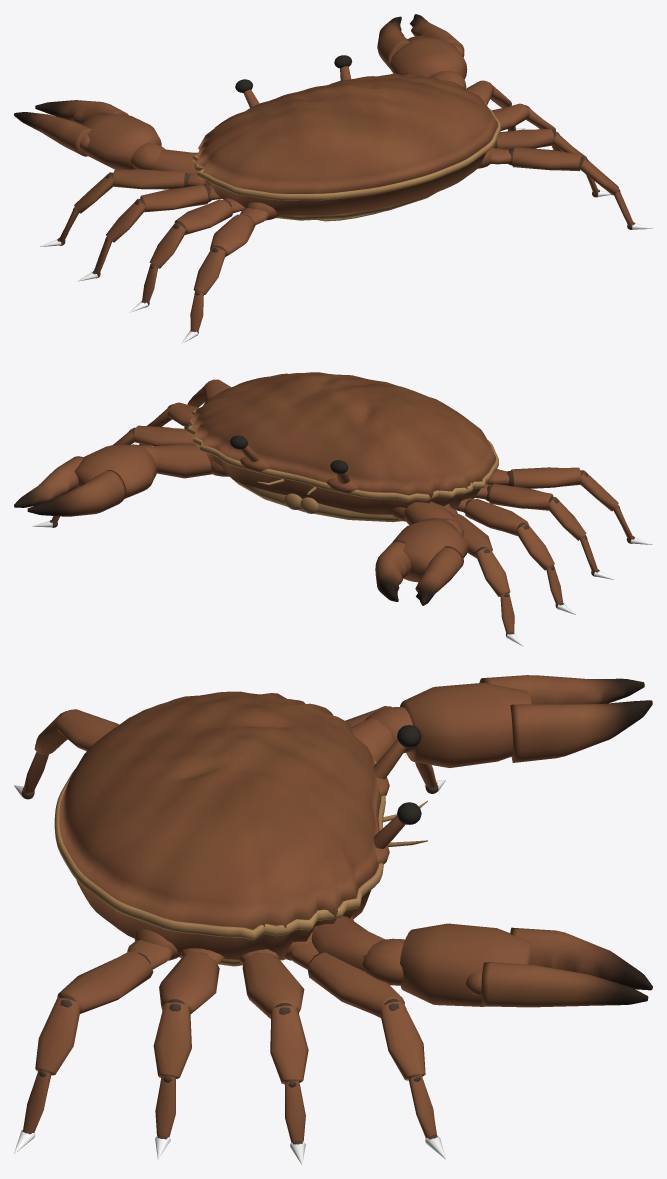
File: CustomCrab-anatomy2.fbx
3 renders of one model, top to bottom at view 1: azimuth 30°, elevation 25°; view 2: azimuth 150°, elevation 25°; view 3: azimuth 270°, elevation 25°, orthographic. The views are drawn at different scales.
Parts seen in each view (by area): view 1: CarapacePart / surface 0, Claw_LPart / surface 0, Claw_RPart / surface 0, Leg_L_3Part / surface 0, Leg_R_3Part / surface 0, CarapacePart / surface 5, Leg_L_2Part / surface 0, Leg_L_0Part / surface 0, Leg_L_1Part / surface 0, Claw_LPart / DactylHinge / surface 0, Leg_R_2Part / surface 0, Leg_R_1Part / surface 0 (+4 smaller); view 2: CarapacePart / surface 0, Claw_RPart / surface 0, Claw_LPart / surface 0, Leg_L_1Part / surface 0, Leg_L_3Part / surface 0, Leg_L_2Part / surface 0, CarapacePart / surface 5, Leg_L_0Part / surface 0, BodyCore | protected fixed mounts / surface 1, Claw_LPart / DactylHinge / surface 0, Claw_RPart / DactylHinge / surface 0, BodyCore | protected fixed mounts / surface 0 (+4 smaller); view 3: CarapacePart / surface 0, Claw_LPart / surface 0, Claw_RPart / surface 0, Leg_R_3Part / surface 0, Leg_R_0Part / surface 0, Leg_R_1Part / surface 0, Leg_R_2Part / surface 0, Claw_RPart / DactylHinge / surface 0, CarapacePart / surface 5, Claw_LPart / DactylHinge / surface 0, Leg_L_3Part / surface 0, BodyCore | protected fixed mounts / surface 0 (+1 smaller).
Boxes of the visible parts, x1,y1,x2,y2 form: CarapacePart / surface 0: [195, 73, 497, 215]; Claw_LPart / surface 0: [35, 100, 198, 174]; Claw_RPart / surface 0: [377, 16, 467, 89]; Leg_L_3Part / surface 0: [190, 207, 269, 331]; Leg_R_3Part / surface 0: [489, 147, 632, 225]; CarapacePart / surface 5: [192, 102, 500, 200]; Leg_L_2Part / surface 0: [142, 198, 245, 303]; Leg_L_0Part / surface 0: [59, 169, 207, 242]; Leg_L_1Part / surface 0: [94, 184, 221, 274]; Claw_LPart / DactylHinge / surface 0: [14, 112, 91, 156]; Leg_R_2Part / surface 0: [493, 128, 598, 193]; Leg_R_1Part / surface 0: [492, 103, 562, 151]; CarapacePart / surface 0: [189, 372, 495, 514]; Claw_RPart / surface 0: [27, 444, 211, 516]; Claw_LPart / surface 0: [375, 501, 468, 601]; Leg_L_1Part / surface 0: [456, 498, 562, 604]; Leg_L_3Part / surface 0: [488, 467, 632, 540]; Leg_L_2Part / surface 0: [475, 483, 597, 572]; CarapacePart / surface 5: [186, 410, 498, 501]; Leg_L_0Part / surface 0: [444, 507, 514, 633]; BodyCore | protected fixed mounts / surface 1: [231, 478, 402, 522]; Claw_LPart / DactylHinge / surface 0: [415, 546, 463, 605]; Claw_RPart / DactylHinge / surface 0: [14, 456, 83, 507]; BodyCore | protected fixed mounts / surface 0: [209, 445, 489, 521]; CarapacePart / surface 0: [59, 691, 381, 959]; Claw_LPart / surface 0: [351, 683, 652, 767]; Claw_RPart / surface 0: [311, 916, 652, 1006]; Leg_R_3Part / surface 0: [23, 939, 172, 1132]; Leg_R_0Part / surface 0: [289, 942, 436, 1138]; Leg_R_1Part / surface 0: [238, 949, 308, 1142]; Leg_R_2Part / surface 0: [153, 948, 224, 1137]; Claw_RPart / DactylHinge / surface 0: [481, 962, 648, 1007]; CarapacePart / surface 5: [54, 739, 385, 940]; Claw_LPart / DactylHinge / surface 0: [479, 675, 644, 704]; Leg_L_3Part / surface 0: [23, 709, 118, 792]; BodyCore | protected fixed mounts / surface 0: [134, 739, 406, 960].
Bounding box in the file's own units: 411 × 114 × 284.
